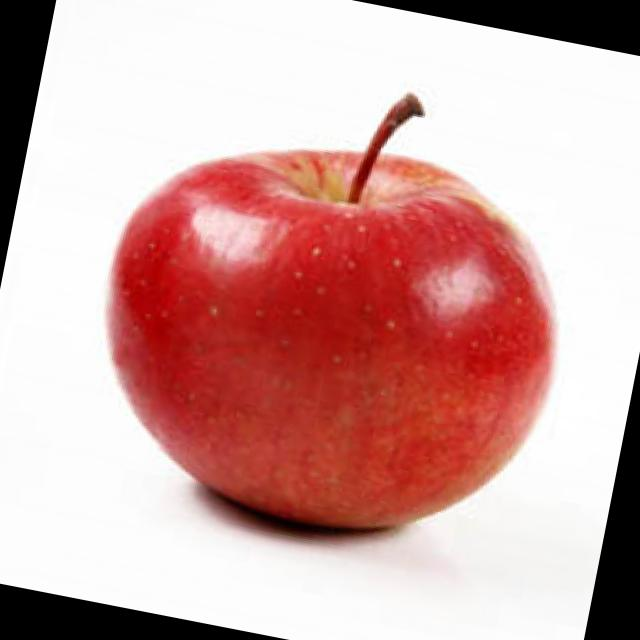apple: (65, 108, 590, 582)
